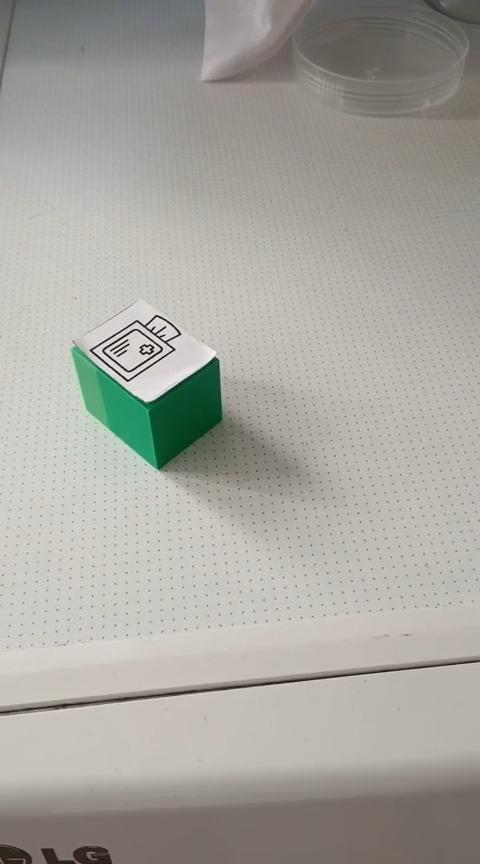Gauze: (69, 297, 223, 470)
